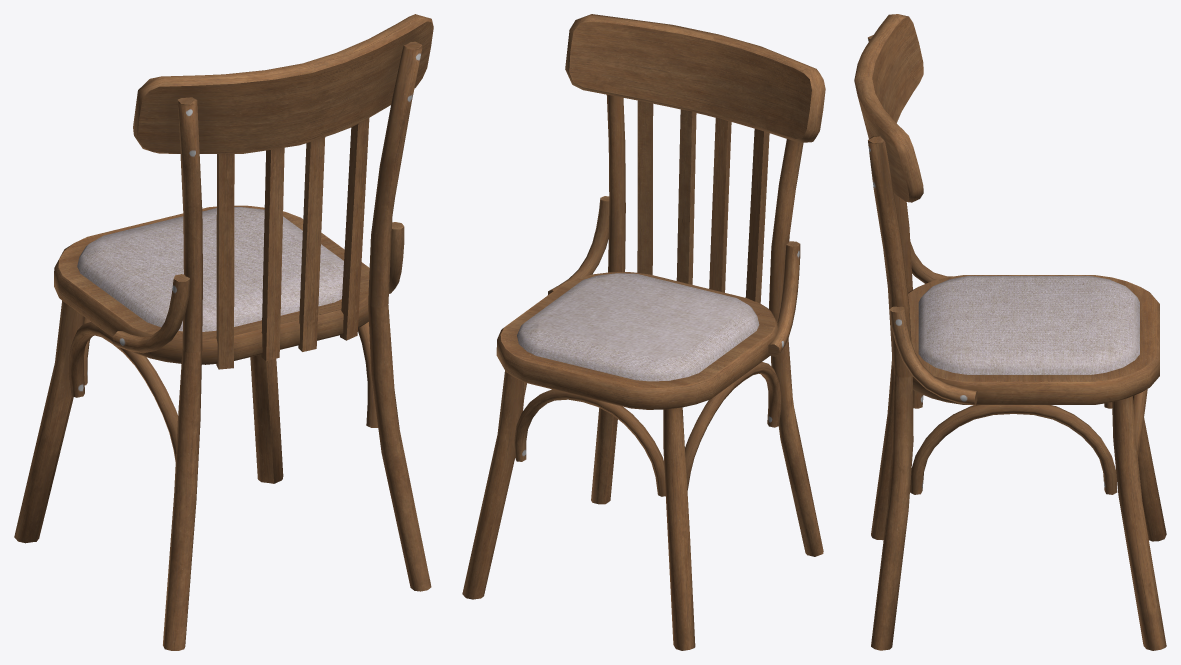
The model's file is chair_2.gltf.
3 views of the same model, side by side, from view 1: azimuth 30°, elevation 25°; view 2: azimuth 150°, elevation 25°; view 3: azimuth 270°, elevation 25° (orthographic). The views are drawn at different scales.
Parts seen in each view (by area): view 1: chair; view 2: chair; view 3: chair.
Boxes of the visible parts, x1=… form: chair: x1=14, y1=14, x2=433, y2=650; chair: x1=462, y1=14, x2=825, y2=650; chair: x1=854, y1=14, x2=1166, y2=650.
Bounding box in the file's own units: 0.6347 × 1.17 × 0.6357.
Materials: 1 (1 with a texture image).
